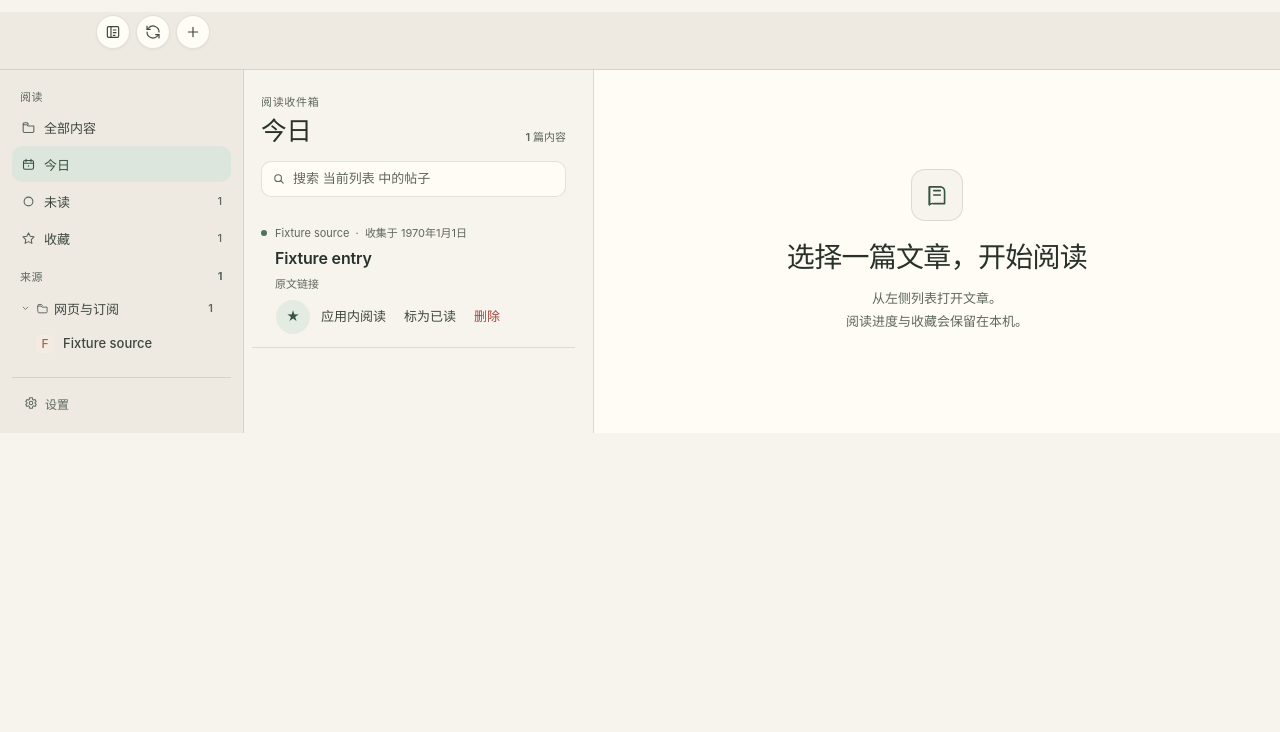
keeps newer deletion notice ownership after late read failure (dismissed=true)
What coordinates should you click on to do the following:
click the button "标为已读"
I would click on:
 (430, 316)
Its box is [397,300,463,334].
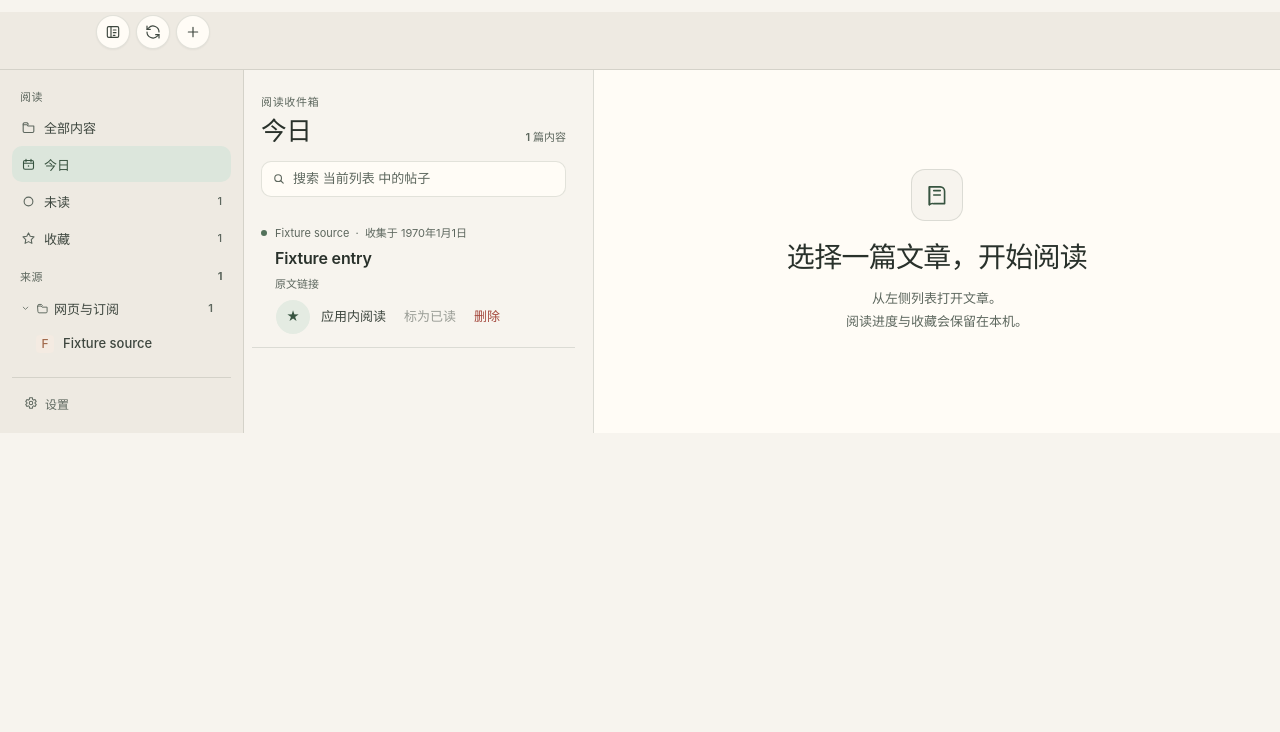
What coordinates should you click on to do the following:
click the button with class "delete-entry"
I would click on:
 (487, 316)
Its box is [467,300,507,334].
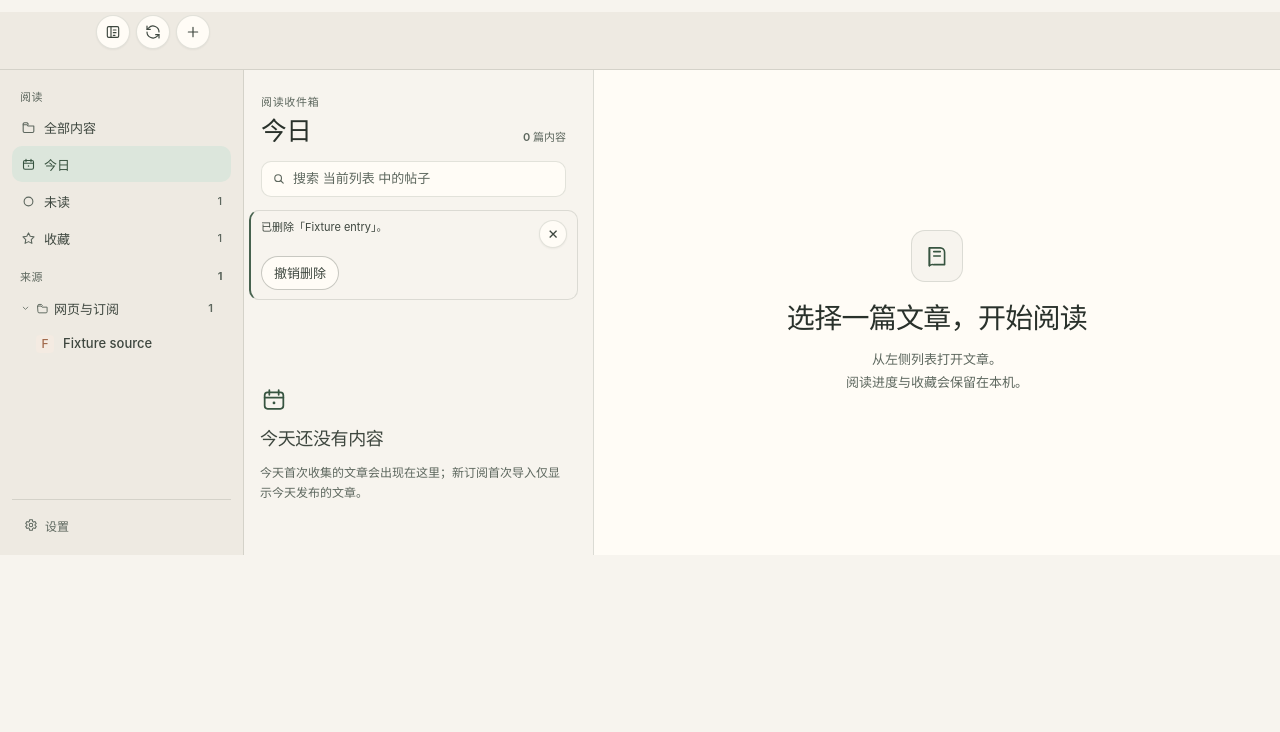
What coordinates should you click on to do the following:
click the button named "关闭通知"
I would click on:
 (553, 234)
Its box is [539,220,567,248].
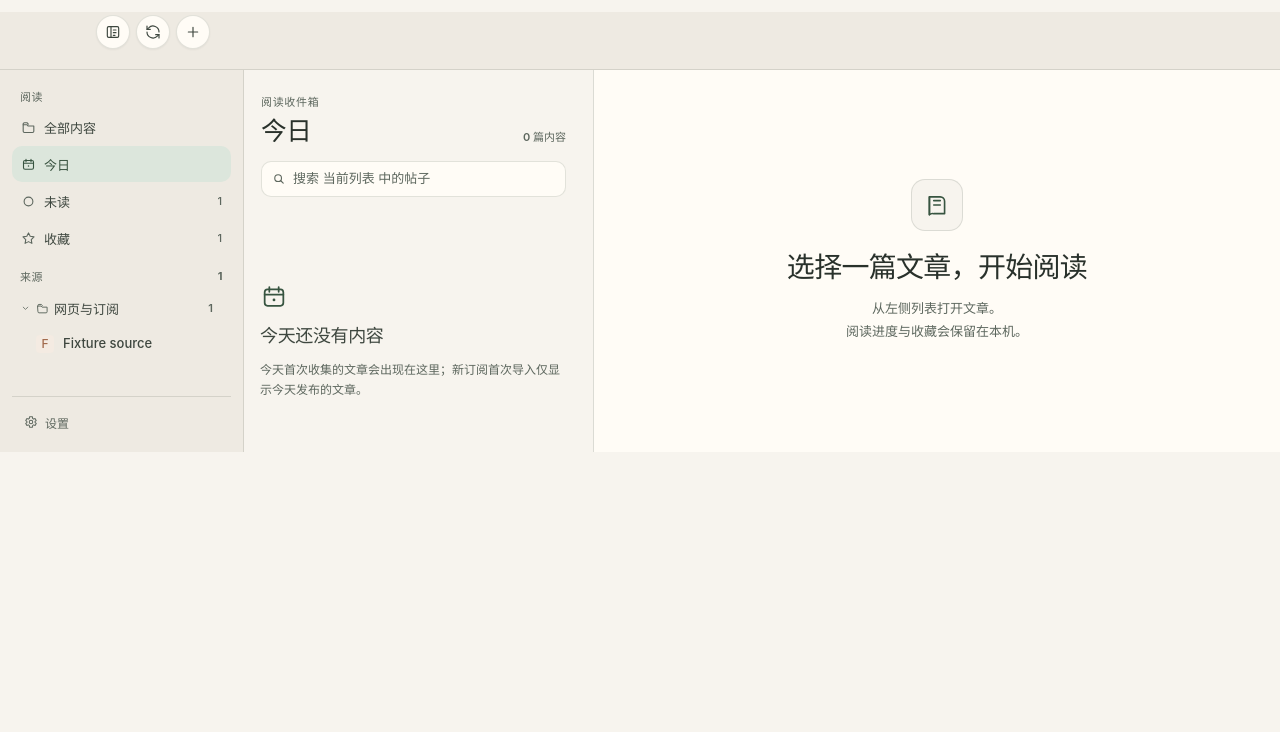
Now the element with class "notice" is gone
